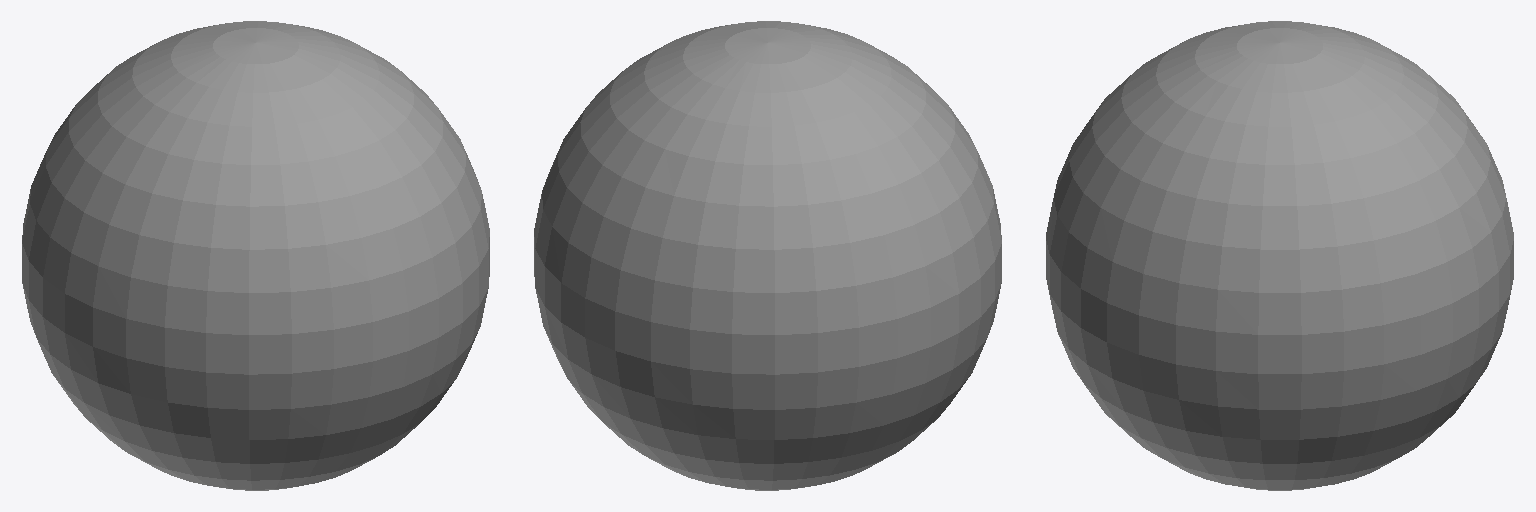
Rendered from left_sphere.obj.
3 renders of one model, left to right at view 1: azimuth 30°, elevation 25°; view 2: azimuth 150°, elevation 25°; view 3: azimuth 270°, elevation 25°, orthographic.
Parts seen in each view (by area): view 1: left_sphere_leftSphere; view 2: left_sphere_leftSphere; view 3: left_sphere_leftSphere.
Part boxes in pixels (left/top/right/bottom): left_sphere_leftSphere: left=22, top=21, right=489, bottom=490; left_sphere_leftSphere: left=534, top=21, right=1001, bottom=490; left_sphere_leftSphere: left=1046, top=21, right=1513, bottom=490.
Bounding box in the file's own units: 0.6472 × 0.6526 × 0.6498.